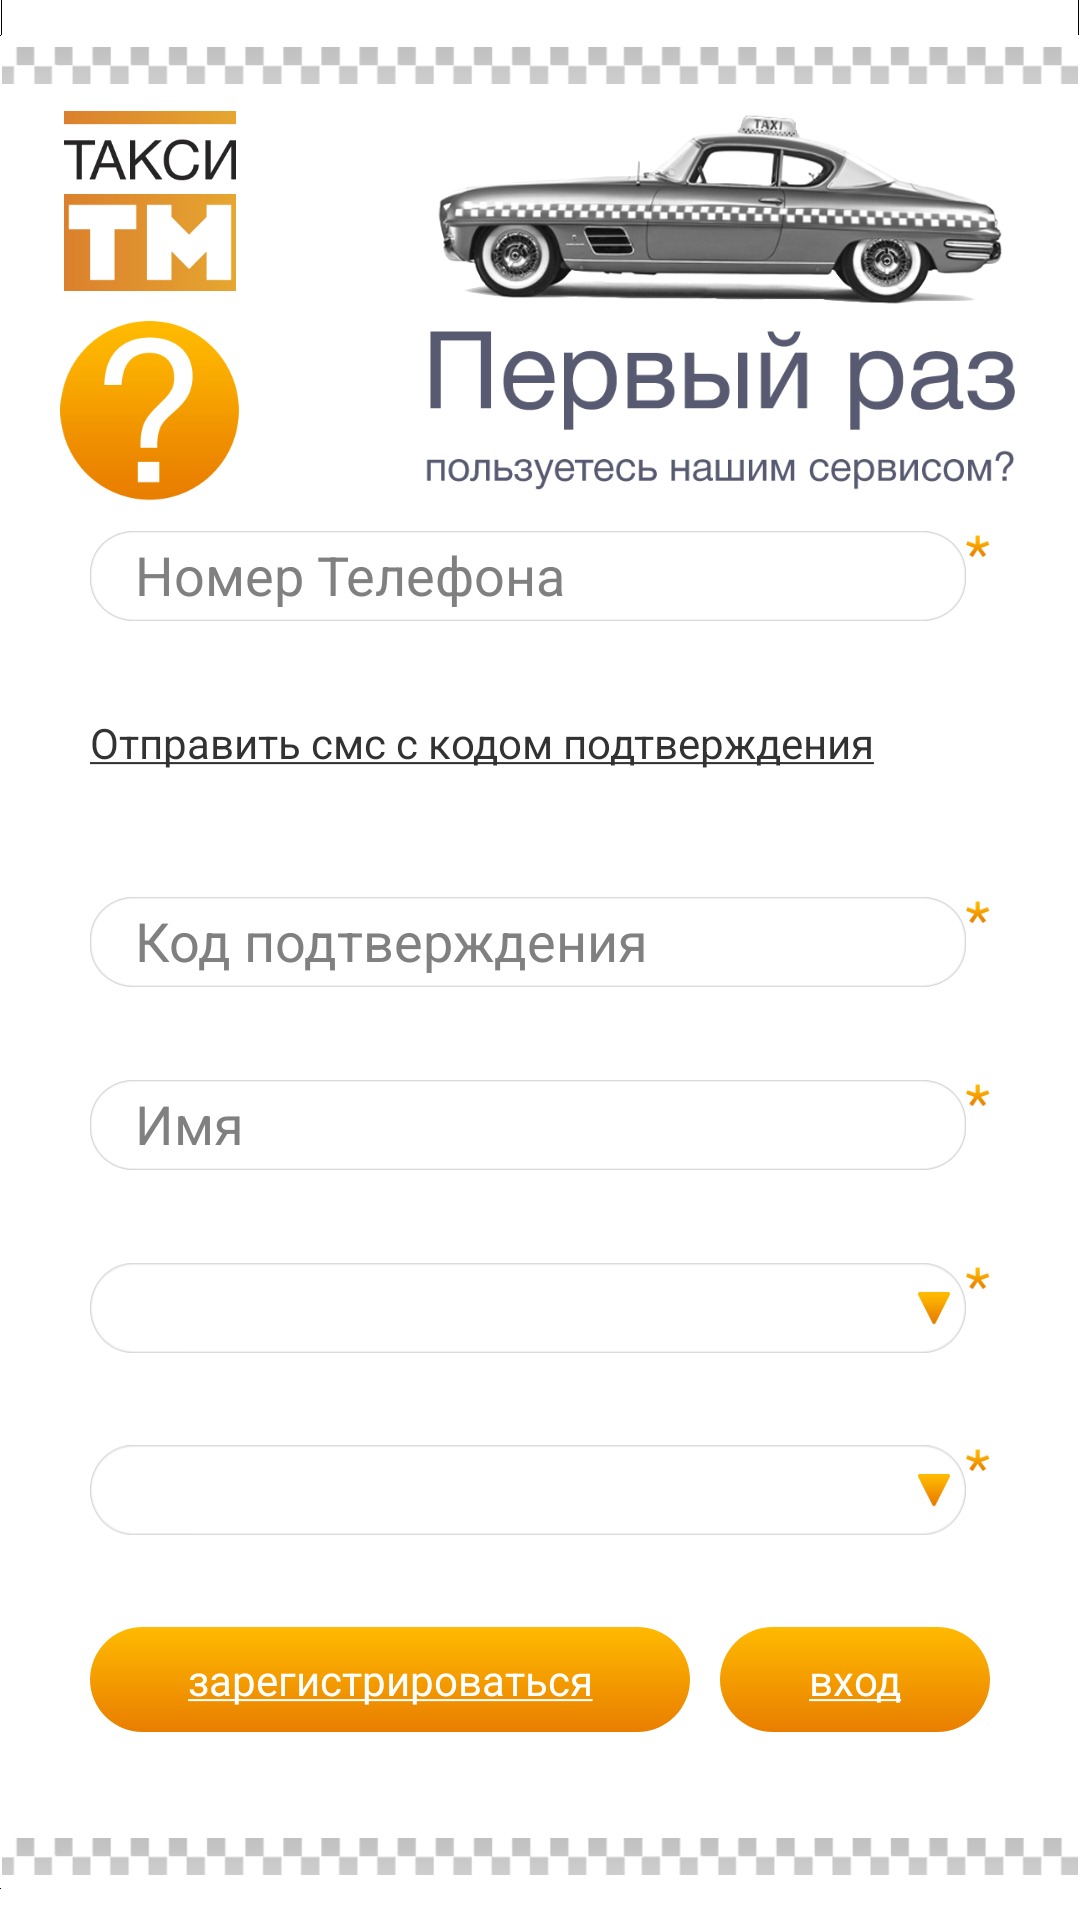

Icon click points for this 1080*1920 phone screenshot, format (x,y):
znak apelsine: (149,410)
